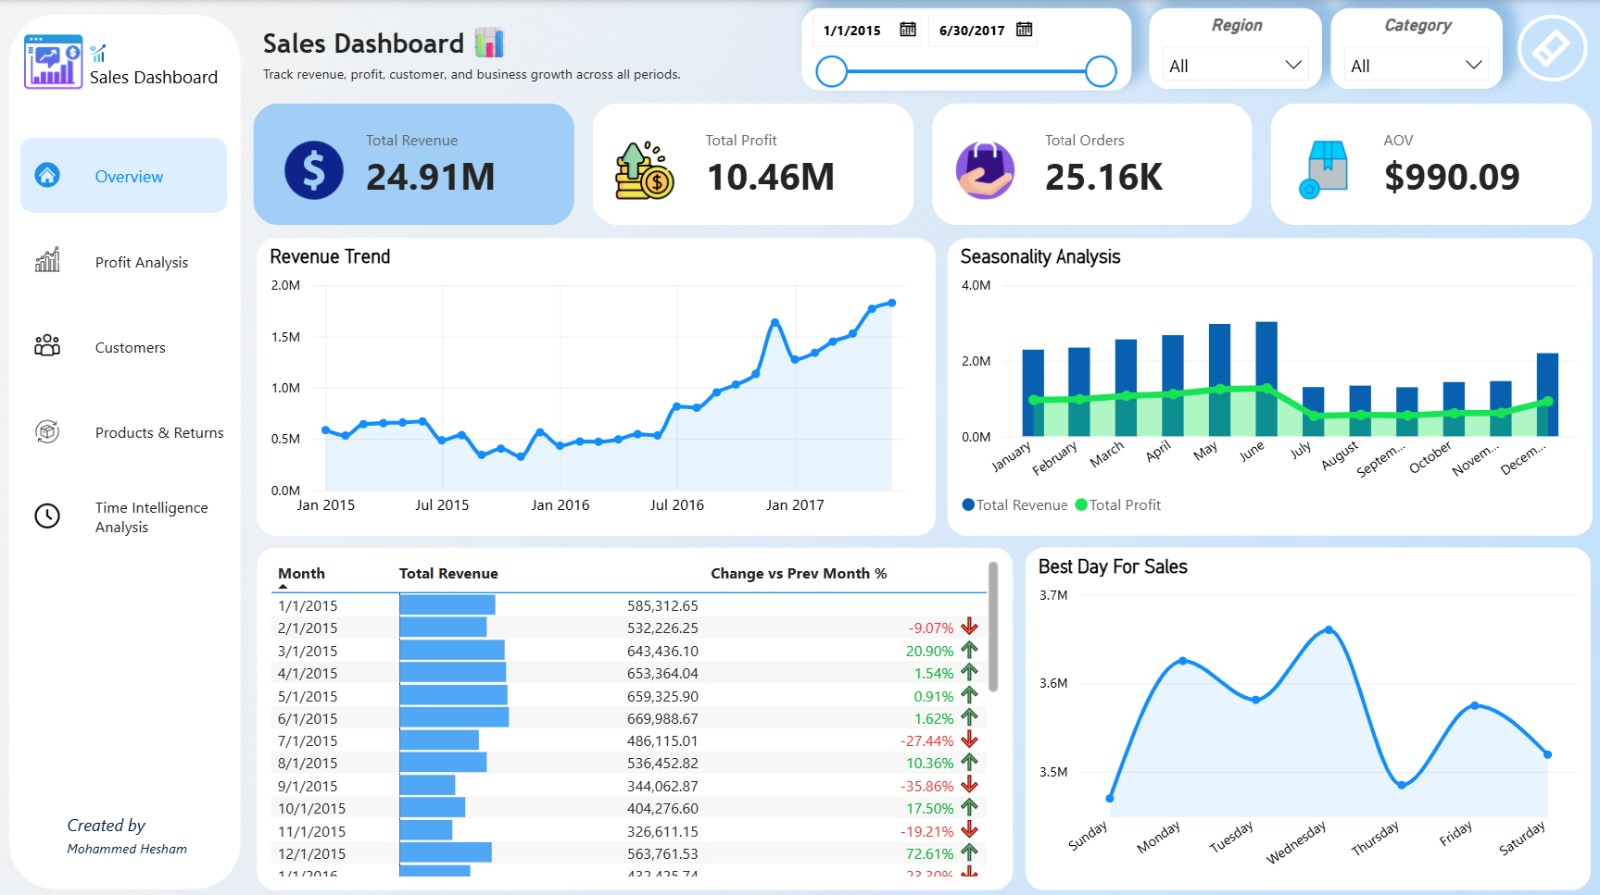

The page's visual inventory and layout, read from the dashboard file:
{"tool":"powerbi","page":{"name":"Overview","canvas":[1280,720],"ordinal":0},"visuals":[{"type":"shape","box":[8,12.1,185.1,698.9],"z":0},{"type":"lineChart","title":"Revenue Trend","fields":{"Y":["A Measures.Total Revenue"],"Category":["Calendar.Date.Variation.Date Hierarchy.Year","Calendar.Date.Variation.Date Hierarchy.Month"]},"box":[205.3,190.5,542,237.4],"z":1000},{"type":"stackedAreaChart","title":"Best Day For Sales","fields":{"Category":["Calendar.Day Name"],"Y":["A Measures.Total Revenue"]},"box":[819.7,437.3,452.1,273.7],"z":2000},{"type":"cardVisual","fields":{"Data":["Sales.Total Revenue","Sales.Total Profit","Sales.Total Orders","A Measures.AOV"]},"box":[193.2,77.8,1088,107.3],"z":3000},{"type":"lineStackedColumnComboChart","title":"Seasonality Analysis","fields":{"Category":["Calendar.Date.Variation.Date Hierarchy.Month"],"Y":["A Measures.Total Revenue"],"Y2":["A Measures.Total Profit"]},"box":[756.6,190.5,515.1,237.4],"z":4000},{"type":"tableEx","fields":{"Values":["Calendar.Start Of Month","A Measures.Total Revenue","Calendar.Profit Change %"]},"box":[205.3,437.3,603.7,273.7],"z":5000},{"type":"pageNavigator","box":[8,109.7,174.4,335.4],"z":6000},{"type":"textbox","box":[67.1,47,120.7,30.9],"z":7000},{"type":"image","box":[18.8,25.5,48.3,47],"z":8000},{"type":"image","box":[28.2,127.4,20.1,25.5],"z":9000},{"type":"image","box":[28.2,194.5,20.1,25.5],"z":10000},{"type":"image","box":[28.2,262.9,20.1,25.5],"z":11000},{"type":"image","box":[28.2,332.7,20.1,25],"z":12000},{"type":"image","box":[28.2,399.8,20.1,24.1],"z":13000},{"type":"textbox","box":[49.6,643.9,118.1,53.7],"z":14000},{"type":"textbox","box":[205.3,12.1,363.6,65.7],"z":15000},{"type":"image","box":[219.7,112.7,63.1,47],"z":16000},{"type":"image","box":[484,112.7,63.1,47],"z":17000},{"type":"image","box":[756.3,112.7,63.1,47],"z":18000},{"type":"image","box":[1025.9,112.7,63.1,47],"z":19000},{"type":"slicer","fields":{"Values":["Calendar.Date"]},"box":[639.9,7,264.3,65.7],"z":20000},{"type":"slicer","title":"Region","fields":{"Values":["Territories.Country"]},"box":[918.9,6.7,138,64.3],"z":21000},{"type":"slicer","title":"Category","fields":{"Values":["Categories.CategoryName"]},"box":[1063.6,6.7,137,64.3],"z":22000},{"type":"image","box":[71.1,34.9,14.8,14.8],"z":23000},{"type":"actionButton","box":[1212.3,12.1,56.3,53.6],"z":24000}]}

Visuals, with their boxes on the page's 1280x720 design canvas (x1, y1, x2, y2). These are canvas units, not pixel positions in the 1600x895 screenshot, which may show the page scaled, cropped or inside an application window:
shape: x1=8 y1=12 x2=193 y2=711
"Revenue Trend" lineChart: x1=205 y1=190 x2=747 y2=428
"Best Day For Sales" stackedAreaChart: x1=820 y1=437 x2=1272 y2=711
cardVisual - Sales.Total Revenue x Sales.Total Profit: x1=193 y1=78 x2=1281 y2=185
"Seasonality Analysis" lineStackedColumnComboChart: x1=757 y1=190 x2=1272 y2=428
tableEx - Calendar.Start Of Month x A Measures.Total Revenue: x1=205 y1=437 x2=809 y2=711
pageNavigator: x1=8 y1=110 x2=182 y2=445
textbox: x1=67 y1=47 x2=188 y2=78
image: x1=19 y1=26 x2=67 y2=72
image: x1=28 y1=127 x2=48 y2=153
image: x1=28 y1=194 x2=48 y2=220
image: x1=28 y1=263 x2=48 y2=288
image: x1=28 y1=333 x2=48 y2=358
image: x1=28 y1=400 x2=48 y2=424
textbox: x1=50 y1=644 x2=168 y2=698
textbox: x1=205 y1=12 x2=569 y2=78
image: x1=220 y1=113 x2=283 y2=160
image: x1=484 y1=113 x2=547 y2=160
image: x1=756 y1=113 x2=819 y2=160
image: x1=1026 y1=113 x2=1089 y2=160
slicer - Calendar.Date: x1=640 y1=7 x2=904 y2=73
"Region" slicer: x1=919 y1=7 x2=1057 y2=71
"Category" slicer: x1=1064 y1=7 x2=1201 y2=71
image: x1=71 y1=35 x2=86 y2=50
actionButton: x1=1212 y1=12 x2=1269 y2=66
